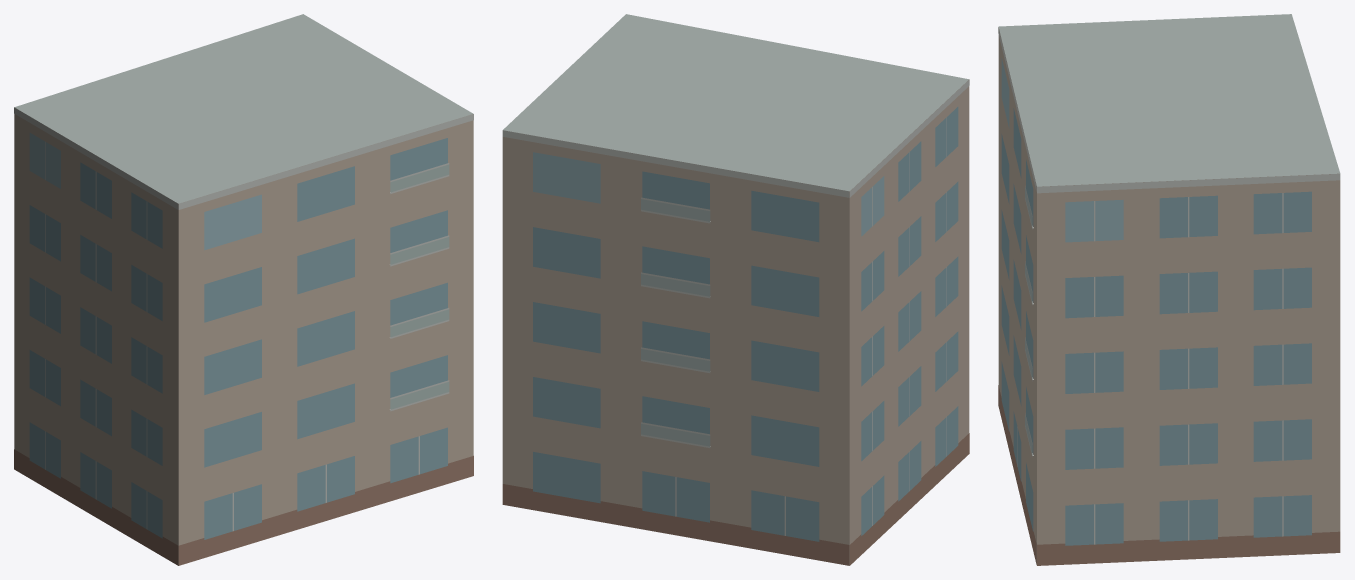
Rendered from survey-upis-32882700.glb.
3 views of the same model, side by side, from view 1: azimuth 30°, elevation 25°; view 2: azimuth 150°, elevation 25°; view 3: azimuth 270°, elevation 25° (orthographic). The views are drawn at different scales.
Parts seen in each view (by area): view 1: survey-upis-32882700.tmp; view 2: survey-upis-32882700.tmp; view 3: survey-upis-32882700.tmp.
Part boxes in pixels (bbox=[...]): survey-upis-32882700.tmp: bbox=[14, 14, 473, 565]; survey-upis-32882700.tmp: bbox=[502, 14, 969, 565]; survey-upis-32882700.tmp: bbox=[998, 14, 1340, 565].
Size of the model in its own units: 13.58 by 13.9 by 11.37.
